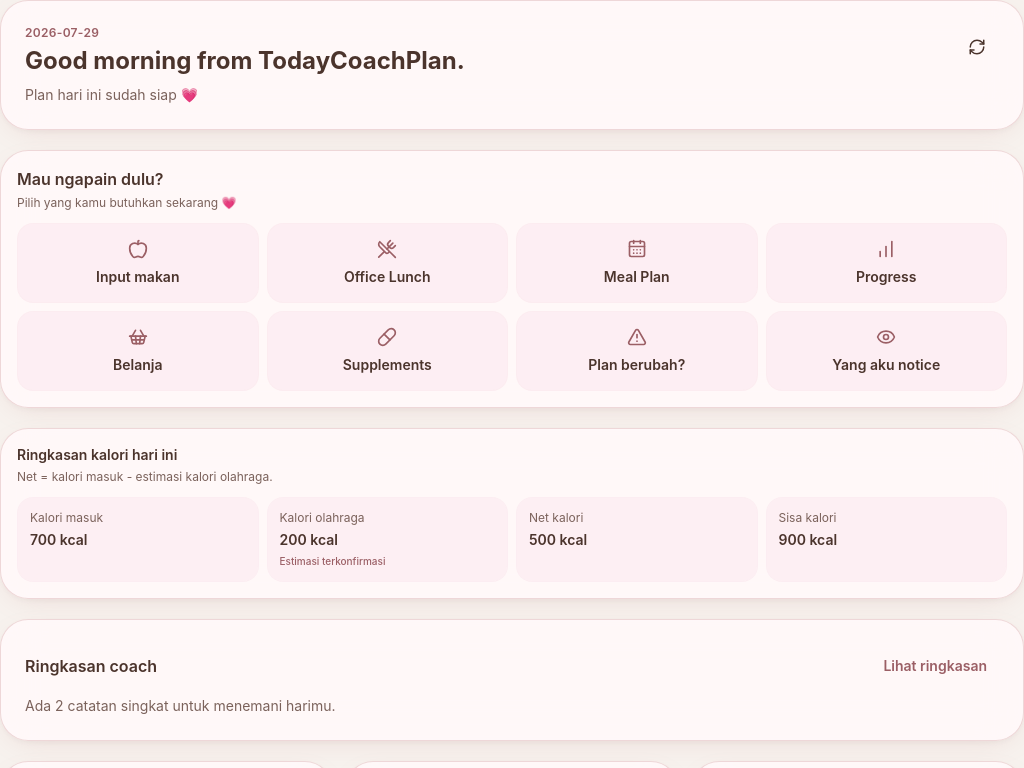
it: Today dashboard › replaces raw Infinity workout copy with supportive Indonesian wording
What coordinates should you click on to do the following:
click the button "Lihat ringkasan"
I would click on:
 (935, 666)
Its box is top-left (871, 644), bottom-right (999, 688).
(page scrolled)
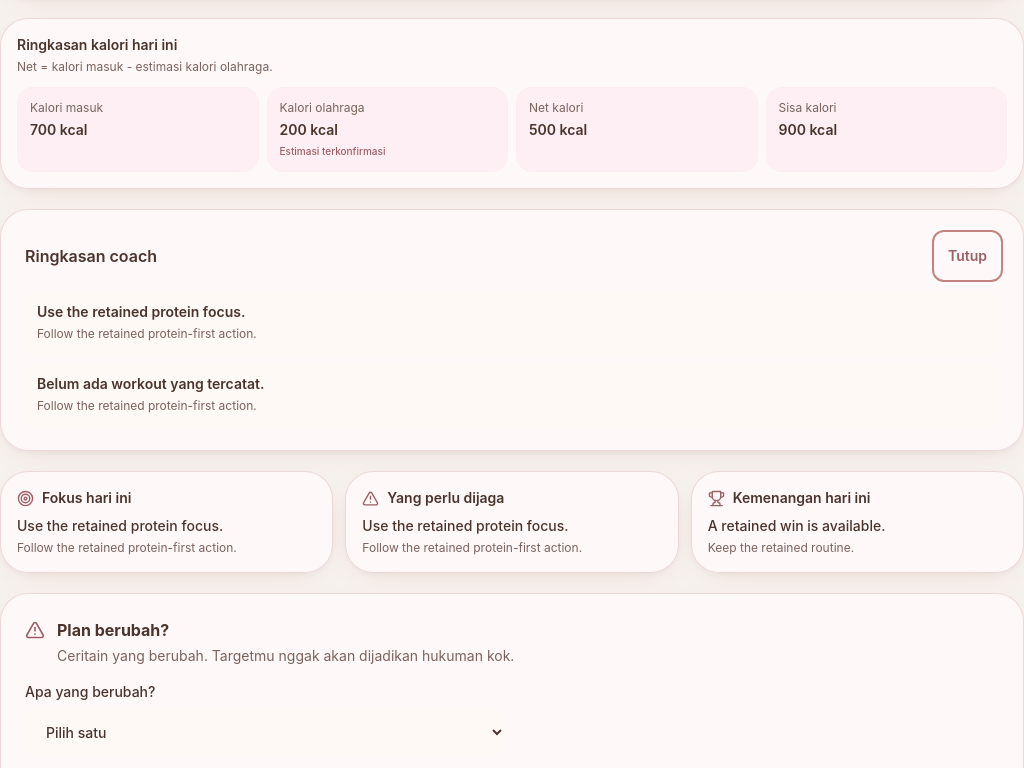
Check: the text "Belum ada workout yang tercatat." is shown, box top-left (37, 375), bottom-right (264, 392)
